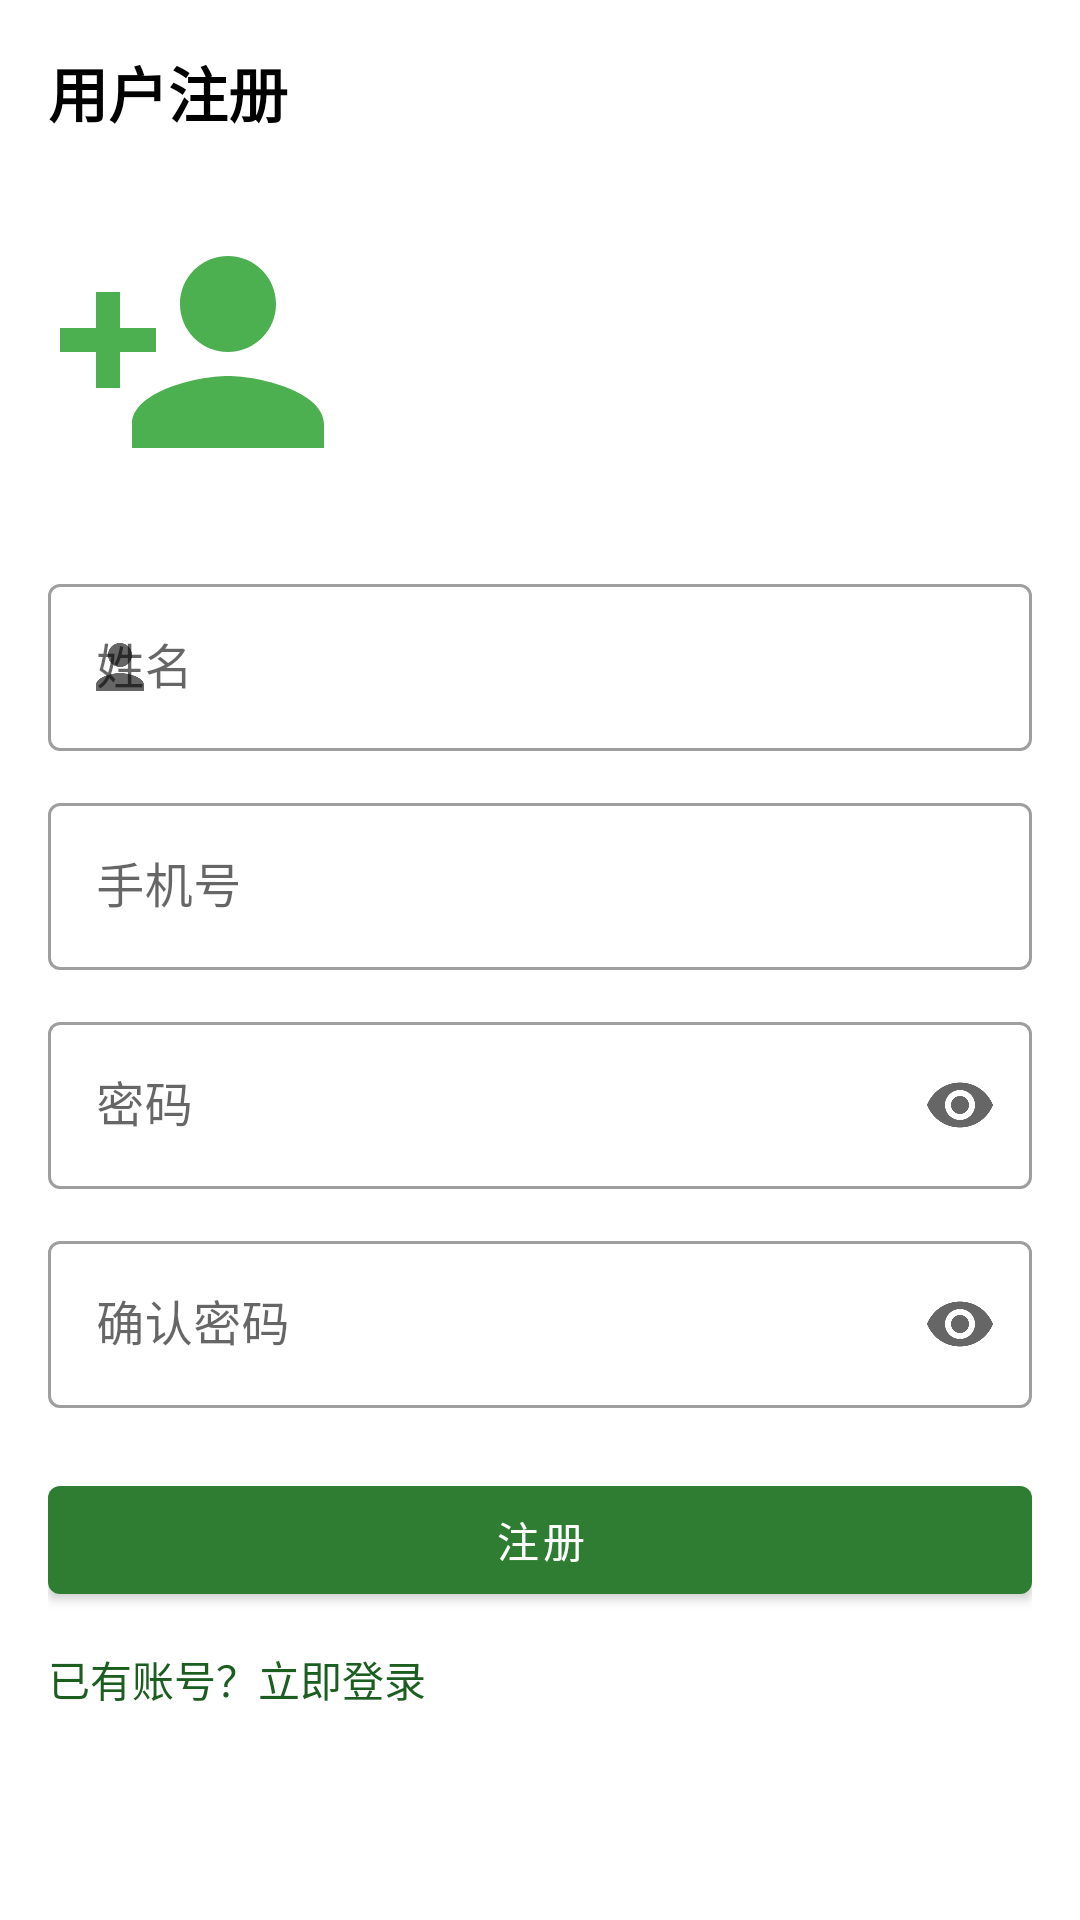

Icons on this 1080 x 1920 Android screen, each with its box as (x1, y1, x2, y2):
person add: (60, 256, 324, 448)
